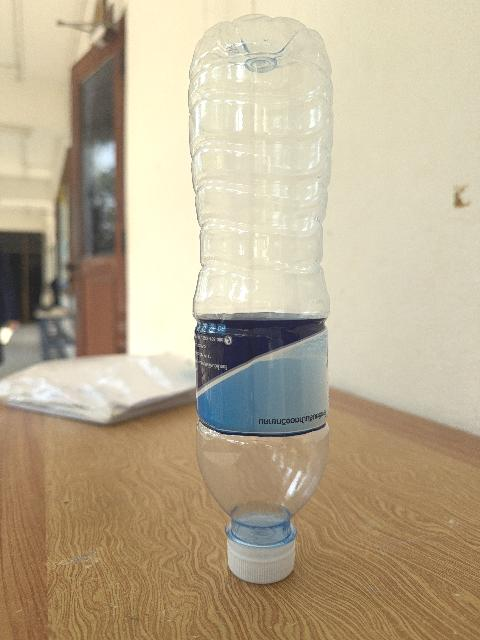bottle: (189, 15, 332, 582)
